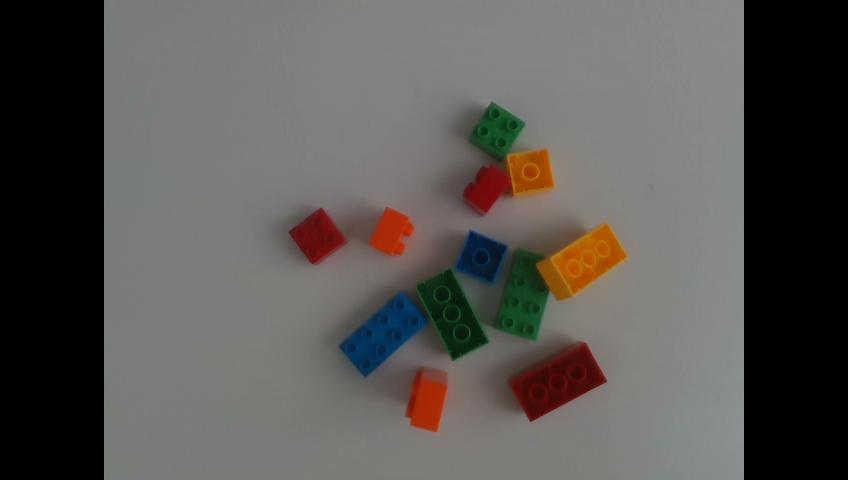2x2_blue: (456, 228, 507, 285)
2x2_green: (471, 102, 526, 156)
2x2_orange: (404, 366, 448, 433), (367, 207, 414, 254)
2x2_red: (288, 207, 347, 263), (464, 164, 511, 213)
2x2_yellow: (507, 147, 553, 195)
4x2_blue: (341, 291, 429, 378)
4x2_green: (416, 266, 490, 360), (496, 249, 550, 339)
4x2_red: (511, 341, 607, 419)
4x2_yellow: (536, 222, 627, 300)
